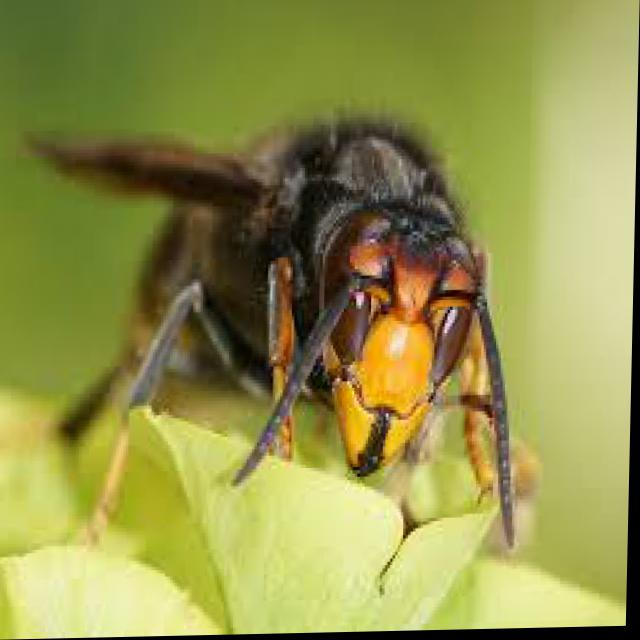Vespa Velutina: (0, 61, 552, 584)
